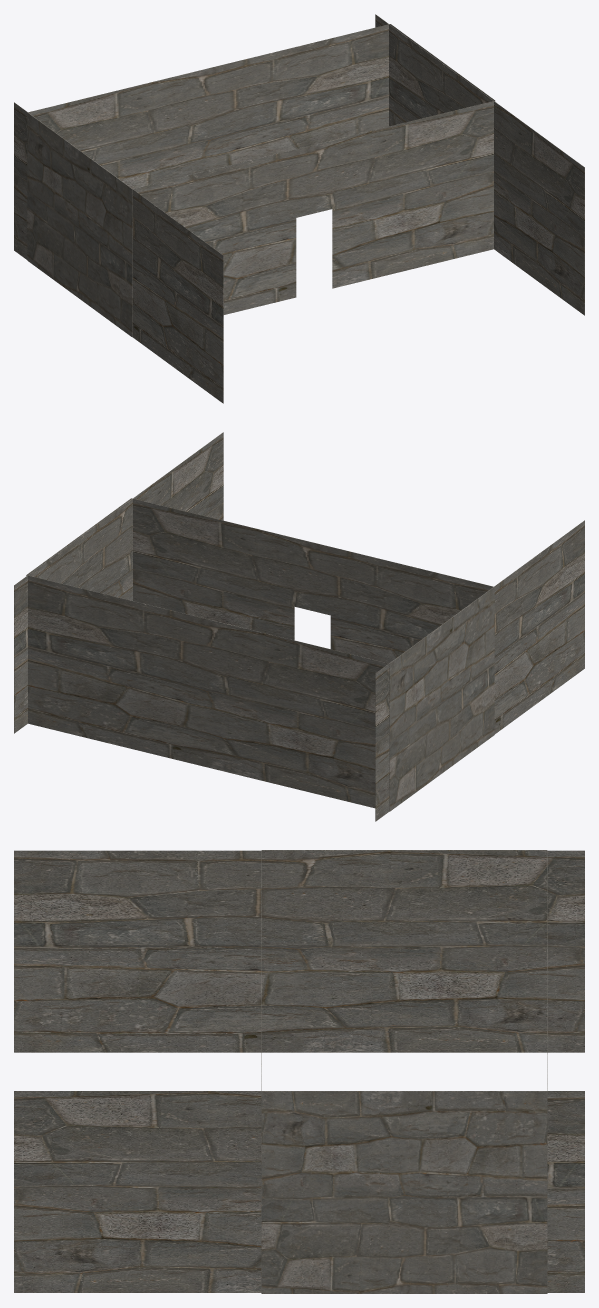
Rendered from muraUfficio.fbx.
The picture shows the model from 3 angles, top to bottom: view 1: azimuth 30°, elevation 25°; view 2: azimuth 150°, elevation 25°; view 3: azimuth 270°, elevation 25°; orthographic projection. The views are drawn at different scales.
Visible parts, largest first — view 1: object_184, object_184.001, object_184.002; view 2: object_184, object_184.002, object_184.001; view 3: object_184.002, object_184, object_184.001.
Boxes of the visible parts, x1,y1,x2,y2 form: object_184: (27, 24, 495, 337); object_184.001: (375, 14, 584, 315); object_184.002: (14, 102, 223, 403); object_184: (26, 498, 494, 811); object_184.002: (375, 520, 584, 821); object_184.001: (14, 432, 223, 733); object_184.002: (14, 850, 584, 1052); object_184: (261, 850, 547, 1293); object_184.001: (14, 1091, 584, 1292).
Size of the model in its own units: 1002 by 390 by 1000.
